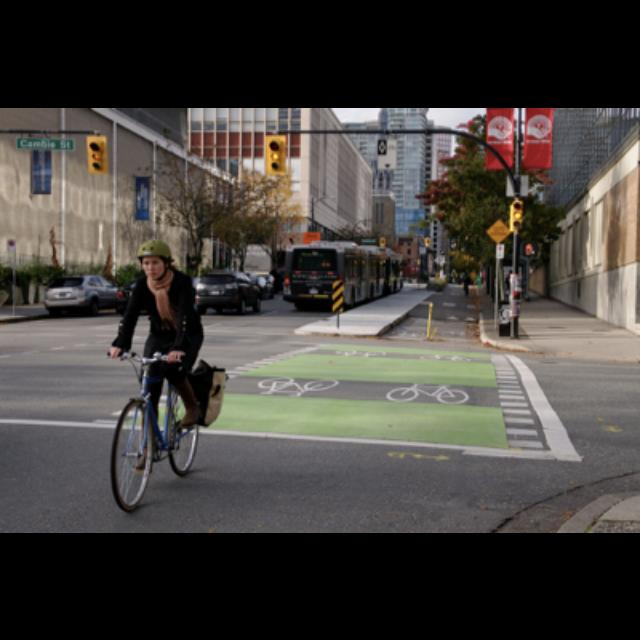With Helmet: (134, 235, 174, 281)
